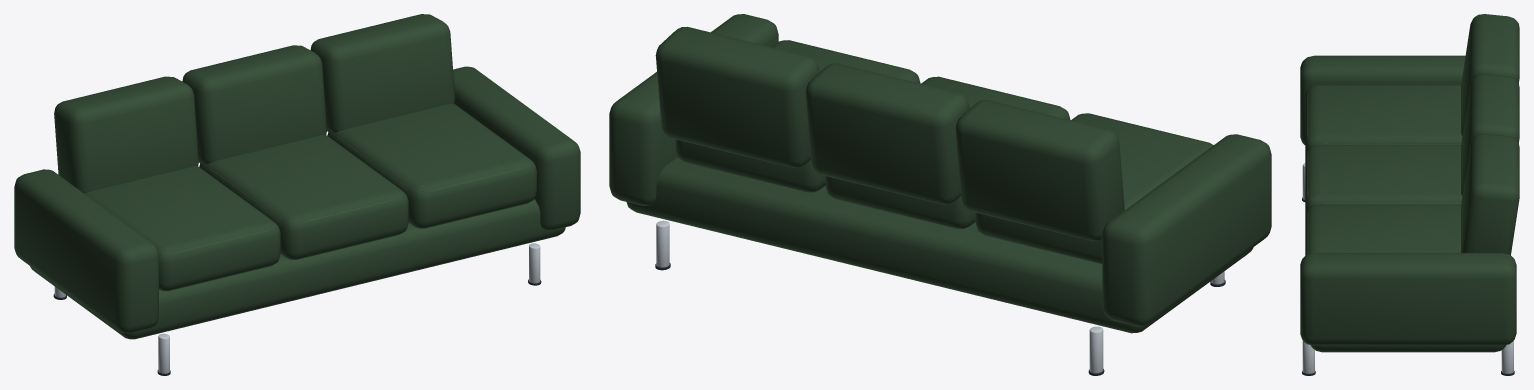
Rendered from sofa.glb.
3 renders of one model, left to right at view 1: azimuth 30°, elevation 25°; view 2: azimuth 150°, elevation 25°; view 3: azimuth 270°, elevation 25°, orthographic. The views are drawn at different scales.
Parts seen in each view (by area): view 1: sofa authored assembly; view 2: sofa authored assembly; view 3: sofa authored assembly.
Boxes of the visible parts, bbox=[...] form: sofa authored assembly: bbox=[14, 14, 580, 375]; sofa authored assembly: bbox=[609, 14, 1271, 375]; sofa authored assembly: bbox=[1300, 14, 1519, 375].
Size of the model in its own units: 2.1 by 0.85 by 0.9.
4 materials, 1 textured.
